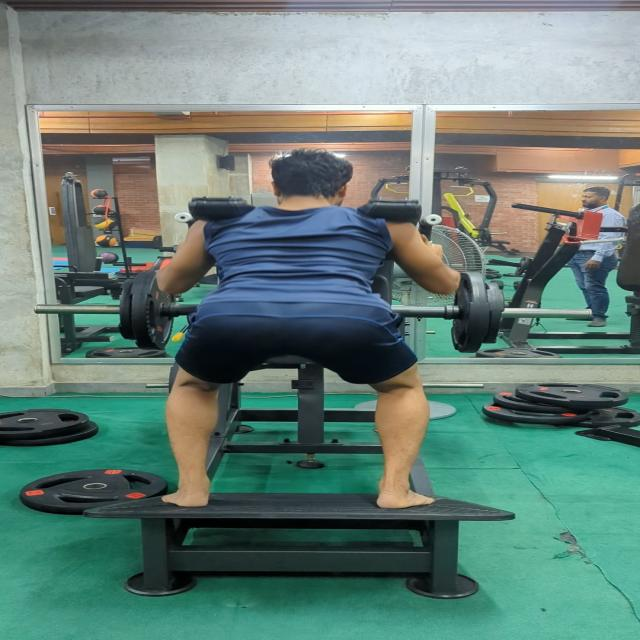Normal_SquatsWithBarbell: (115, 128, 480, 521)
